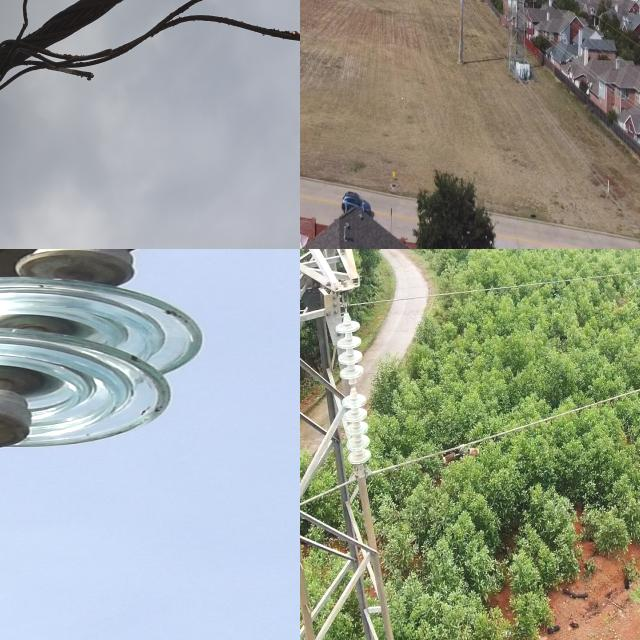杆塔: (300, 249, 395, 640), (499, 0, 535, 66)
正常电缆: (300, 376, 640, 522)
正常绝缘子: (0, 249, 249, 640), (326, 294, 374, 480)
电缆破损: (0, 0, 300, 128)
绝缘子破损: (0, 402, 42, 455), (348, 381, 358, 395)
